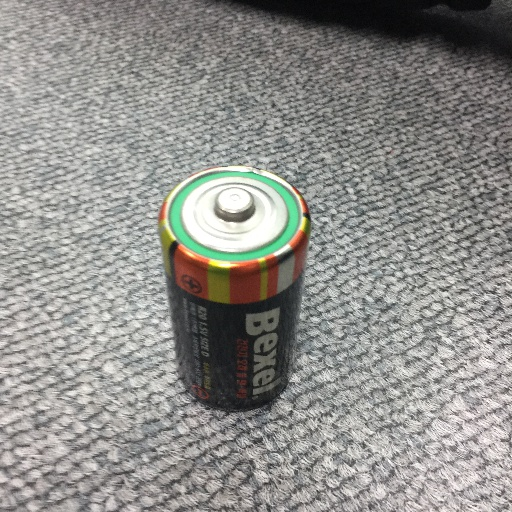Battery_0: (147, 154, 320, 417)
